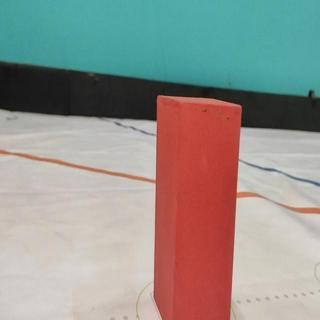redbox: (156, 95, 233, 320)
